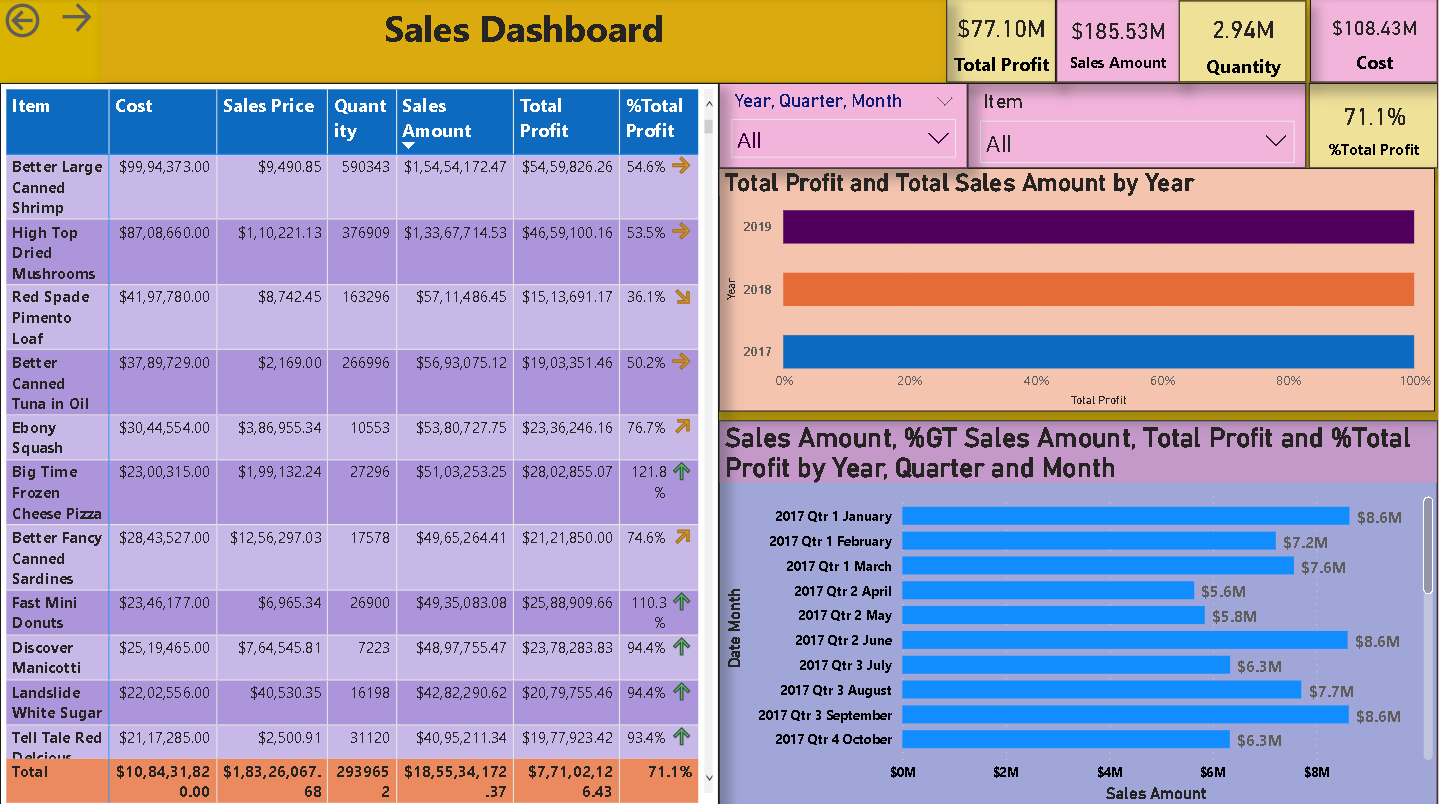

The dashboard page shown, as its layout file describes it:
{"tool":"powerbi","page":{"name":"Sales Dashboard","canvas":[1280,720],"ordinal":1},"visuals":[{"type":"slicer","fields":{"Values":["Sales_Details.Item"]},"box":[861.7,75.1,301.8,76.4],"z":0},{"type":"card","fields":{"Values":["ImpMeasures.Profits%"]},"box":[1164.8,75.1,115.2,76.4],"z":1000},{"type":"card","fields":{"Values":["ImpMeasures.Total Profit Margin"]},"box":[842.9,0,97.7,75.1],"z":2000},{"type":"card","fields":{"Values":["ImpMeasures.Cost"]},"box":[1166,0,114,75.1],"z":3000},{"type":"textbox","box":[90.2,0,752.7,75.1],"z":4000},{"type":"card","fields":{"Values":["ImpMeasures.Revenue"]},"box":[940.6,0,110.2,75.1],"z":5000},{"type":"clusteredBarChart","fields":{"Category":["Date.Date.Variation.Date Hierarchy.Year","Date.Date.Variation.Date Hierarchy.Quarter","Date.Date.Variation.Date Hierarchy.Month"],"Y":["ImpMeasures.Sales Amount"]},"box":[640,375.7,640,344.4],"z":6000},{"type":"actionButton","box":[0,0,100,40],"z":7000},{"type":"card","fields":{"Values":["ImpMeasures.Quantity"]},"box":[1049.5,2.5,114,72.6],"z":8000},{"type":"hundredPercentStackedBarChart","fields":{"Category":["Date.Date.Variation.Date Hierarchy.Year","Date.Date.Variation.Date Hierarchy.Quarter","Date.Date.Variation.Date Hierarchy.Month"],"Y":["ImpMeasures.Total Profit"]},"box":[640,151.5,637.5,216.7],"z":9000},{"type":"slicer","fields":{"Values":["Date.Date.Variation.Date Hierarchy.Year","Date.Date.Variation.Date Hierarchy.Quarter","Date.Date.Variation.Date Hierarchy.Month"]},"box":[640,75.1,221.7,76.4],"z":10000},{"type":"actionButton","box":[50,0,100,35],"z":11000},{"type":"pivotTable","fields":{"Values":["ImpMeasures.Cost","Sum(Sales_Details.Sales Price)","ImpMeasures.Quantity","ImpMeasures.Revenue","ImpMeasures.Profits","ImpMeasures.Profits%"],"Rows":["Sales_Details.Item"]},"box":[0,75.1,640,645],"z":12000}]}

Visuals, with their boxes in screenshot pixels (x1, y1, x2, y2), scaled from the page's 1280x720 canvas onto the 1439x804 screenshot:
slicer - Sales_Details.Item: [x1=969, y1=84, x2=1308, y2=169]
card - ImpMeasures.Profits%: [x1=1309, y1=84, x2=1438, y2=169]
card - ImpMeasures.Total Profit Margin: [x1=948, y1=0, x2=1057, y2=84]
card - ImpMeasures.Cost: [x1=1311, y1=0, x2=1438, y2=84]
textbox: [x1=101, y1=0, x2=948, y2=84]
card - ImpMeasures.Revenue: [x1=1057, y1=0, x2=1181, y2=84]
clusteredBarChart - Date.Date.Variation.Date Hierarchy.Year x Date.Date.Variation.Date Hierarchy.Quarter: [x1=720, y1=420, x2=1438, y2=803]
actionButton: [x1=0, y1=0, x2=112, y2=45]
card - ImpMeasures.Quantity: [x1=1180, y1=3, x2=1308, y2=84]
hundredPercentStackedBarChart - Date.Date.Variation.Date Hierarchy.Year x Date.Date.Variation.Date Hierarchy.Quarter: [x1=720, y1=169, x2=1436, y2=411]
slicer - Date.Date.Variation.Date Hierarchy.Year x Date.Date.Variation.Date Hierarchy.Quarter: [x1=720, y1=84, x2=969, y2=169]
actionButton: [x1=56, y1=0, x2=169, y2=39]
pivotTable - ImpMeasures.Cost x Sum(Sales_Details.Sales Price): [x1=0, y1=84, x2=720, y2=803]
